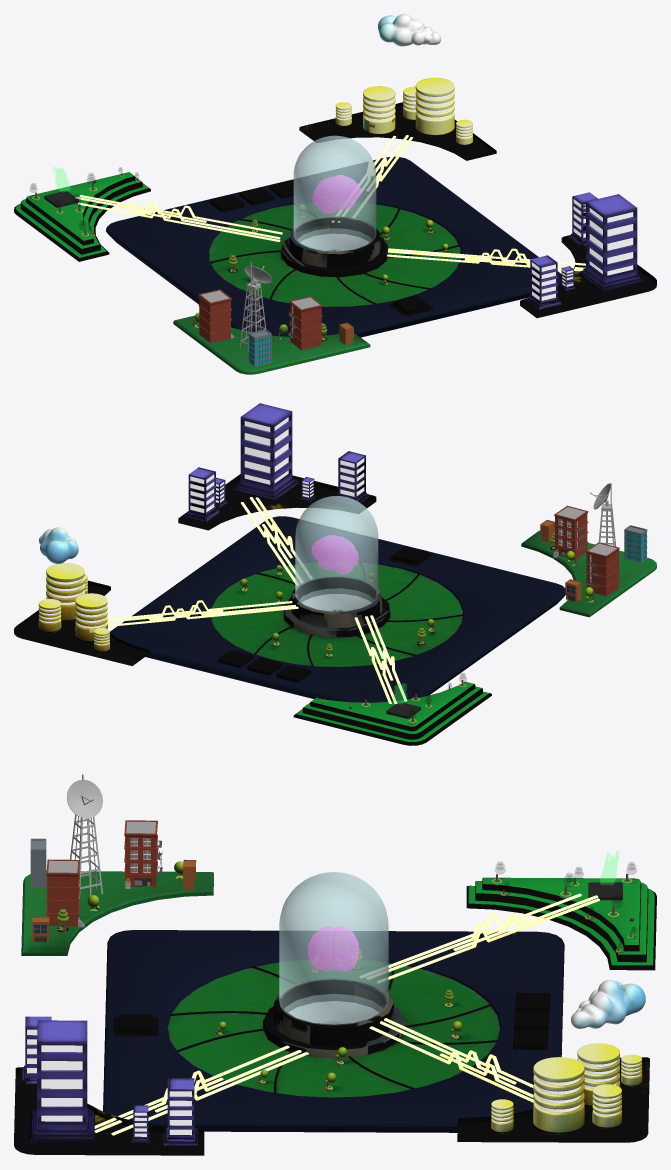
The picture shows the model from 3 angles, top to bottom: view 1: azimuth 30°, elevation 25°; view 2: azimuth 150°, elevation 25°; view 3: azimuth 270°, elevation 25°; orthographic projection. The views are drawn at different scales.
Parts seen in each view (by area): view 1: Plane.124, Cylinder.247, Plane.125, Plane.127, Plane.132, Cylinder.254, pCube16.001, Plane.003, Plane.136, Object_5.022, pCube5.033, Nube.002 (+6 smaller); view 2: Plane.124, Cylinder.247, Plane.125, Plane.132, Plane.127, Plane.003, Cylinder.254, pCube16.001, Object_5.022, Plane.136, pCube5.033, Empty.045 (+7 smaller); view 3: Plane.124, Cylinder.247, Plane.125, Plane.127, Plane.132, Cylinder.254, pCube16.001, Plane.003, Plane.136, Object_5.022, pCube5.033, Nube.002 (+10 smaller).
Part boxes in pixels (left/top/right/bottom): Plane.124: left=106, top=156, right=561, bottom=337; Cylinder.247: left=293, top=135, right=376, bottom=251; Plane.125: left=526, top=192, right=644, bottom=309; Plane.127: left=299, top=102, right=656, bottom=318; Plane.132: left=14, top=172, right=150, bottom=261; Cylinder.254: left=335, top=77, right=472, bottom=145; pCube16.001: left=75, top=135, right=585, bottom=271; Plane.003: left=281, top=216, right=388, bottom=277; Plane.136: left=173, top=315, right=370, bottom=374; Object_5.022: left=198, top=289, right=322, bottom=349; pCube5.033: left=209, top=180, right=433, bottom=316; Nube.002: left=378, top=14, right=440, bottom=46; Plane.124: left=110, top=516, right=565, bottom=702; Cylinder.247: left=295, top=496, right=378, bottom=612; Plane.125: left=184, top=403, right=369, bottom=521; Plane.132: left=293, top=681, right=491, bottom=745; Plane.127: left=14, top=474, right=376, bottom=666; Plane.003: left=283, top=576, right=390, bottom=637; Cylinder.254: left=38, top=563, right=109, bottom=652; pCube16.001: left=107, top=497, right=407, bottom=704; Object_5.022: left=553, top=505, right=619, bottom=596; Plane.136: left=521, top=530, right=656, bottom=617; pCube5.033: left=218, top=546, right=432, bottom=682; Empty.045: left=312, top=535, right=358, bottom=574; Plane.124: left=103, top=930, right=564, bottom=1132; Cylinder.247: left=279, top=872, right=388, bottom=1025; Plane.125: left=21, top=1016, right=198, bottom=1145; Plane.127: left=14, top=1057, right=649, bottom=1155; Plane.132: left=466, top=877, right=656, bottom=970; Cylinder.254: left=491, top=1043, right=642, bottom=1134; pCube16.001: left=94, top=893, right=599, bottom=1135; Plane.003: left=263, top=978, right=404, bottom=1058; Plane.136: left=21, top=871, right=213, bottom=955; Object_5.022: left=46, top=820, right=162, bottom=927; pCube5.033: left=113, top=992, right=550, bottom=1049; Nube.002: left=571, top=980, right=645, bottom=1028.
Bounding box in the file's own units: 0.6701 × 0.1974 × 0.6778.
Materials: 43 (14 with a texture image).
